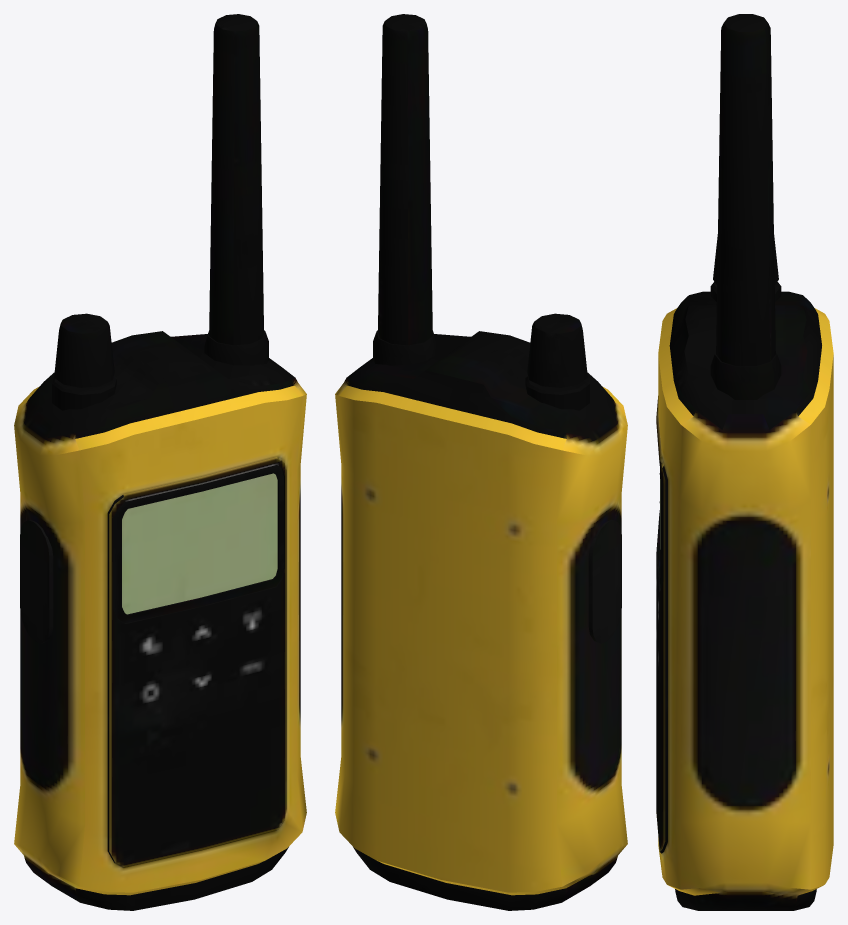
File: WalkieTalkie.glb
3 views of the same model, side by side, from view 1: azimuth 30°, elevation 25°; view 2: azimuth 150°, elevation 25°; view 3: azimuth 270°, elevation 25° (orthographic). The views are drawn at different scales.
Visible parts, largest first — view 1: Walkie_Talkie; view 2: Walkie_Talkie; view 3: Walkie_Talkie.
Part boxes in pixels (x1,y1,x2,y2): Walkie_Talkie: (14, 14, 306, 910); Walkie_Talkie: (335, 14, 627, 910); Walkie_Talkie: (656, 14, 833, 910).
Bounding box in the file's own units: 0.048 × 0.1468 × 0.0265.
Materials: 1 (1 with a texture image).
